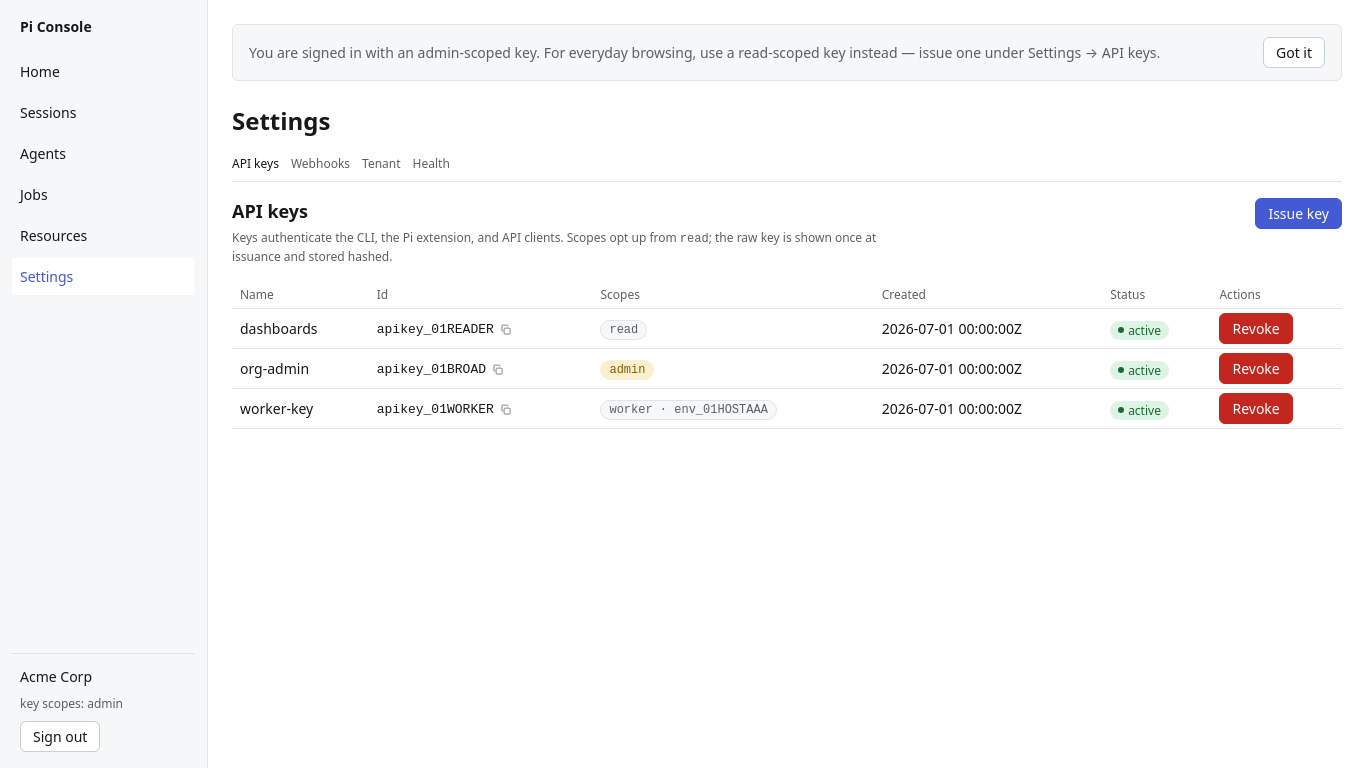
Scenario: issue flow (§9.7: opt-up scopes, show-once secret) › issues with the opted-up scopes, reveals the key exactly once, and forgets it after copy-and-confirm (DP-8 DOM-absence)
The image size is (1366, 768).
Expected: the table named "API keys" is shown, 232,282 -> 1342,429
Click the button "Issue key" at point(1299, 214), box 1255,198 -> 1342,229
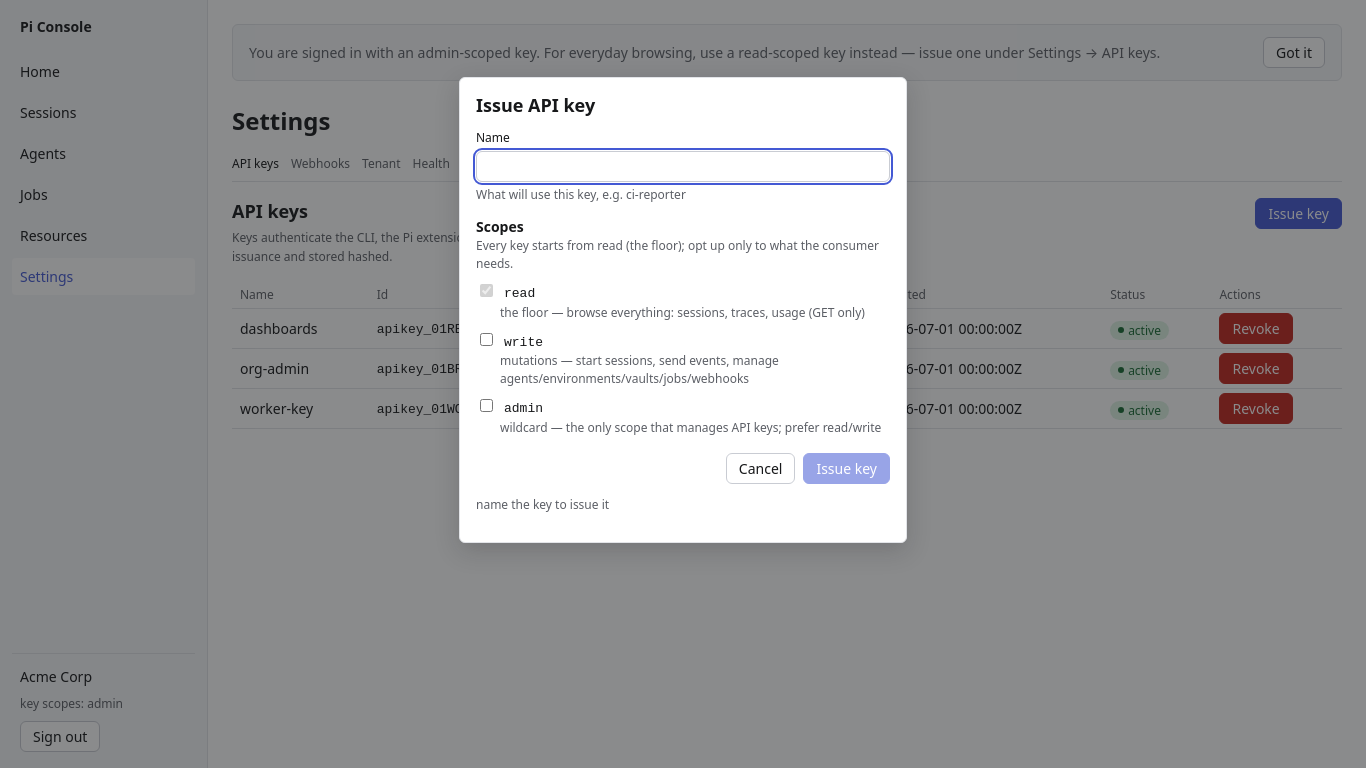
Type "ci-writer" into the field labelled "Name" at point(683, 167), box 476,151 -> 890,182
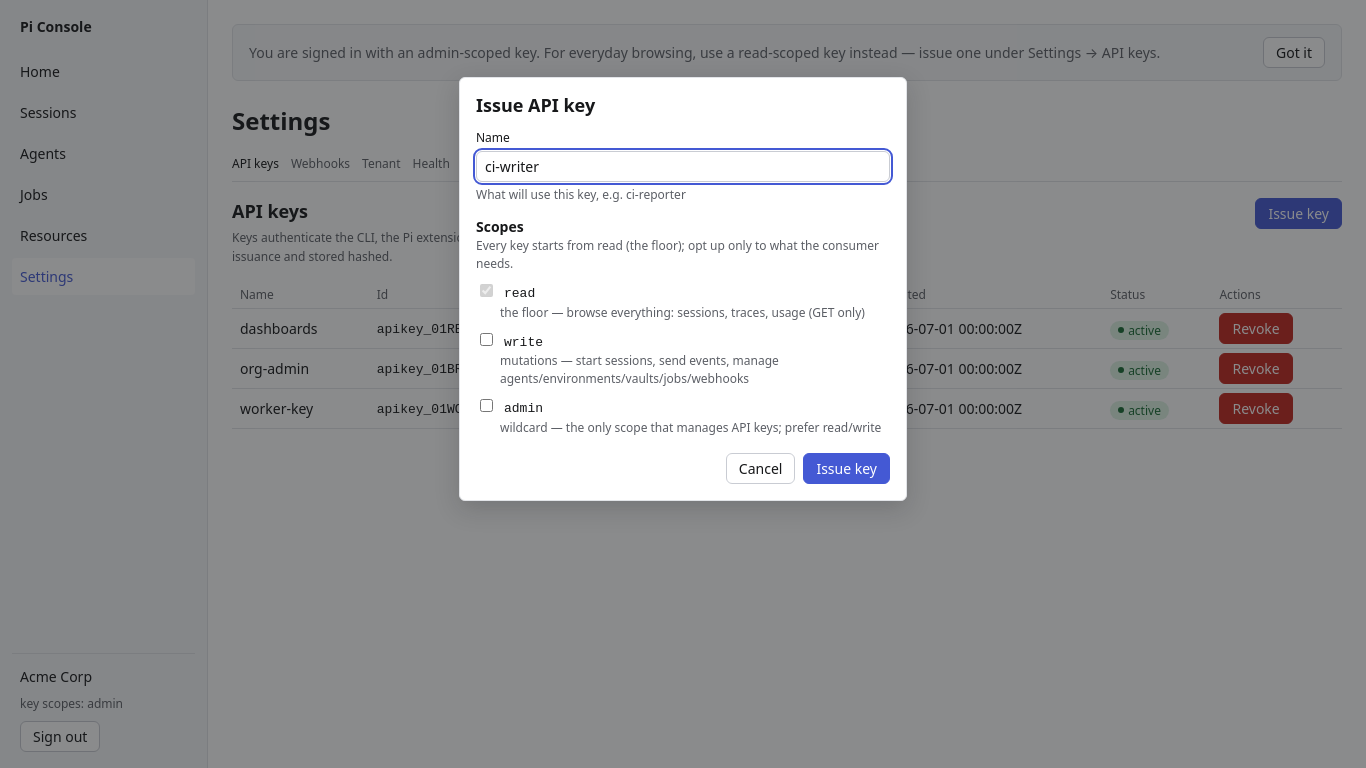
Click the checkbox labelled "write" at point(486, 339), box 480,333 -> 493,346
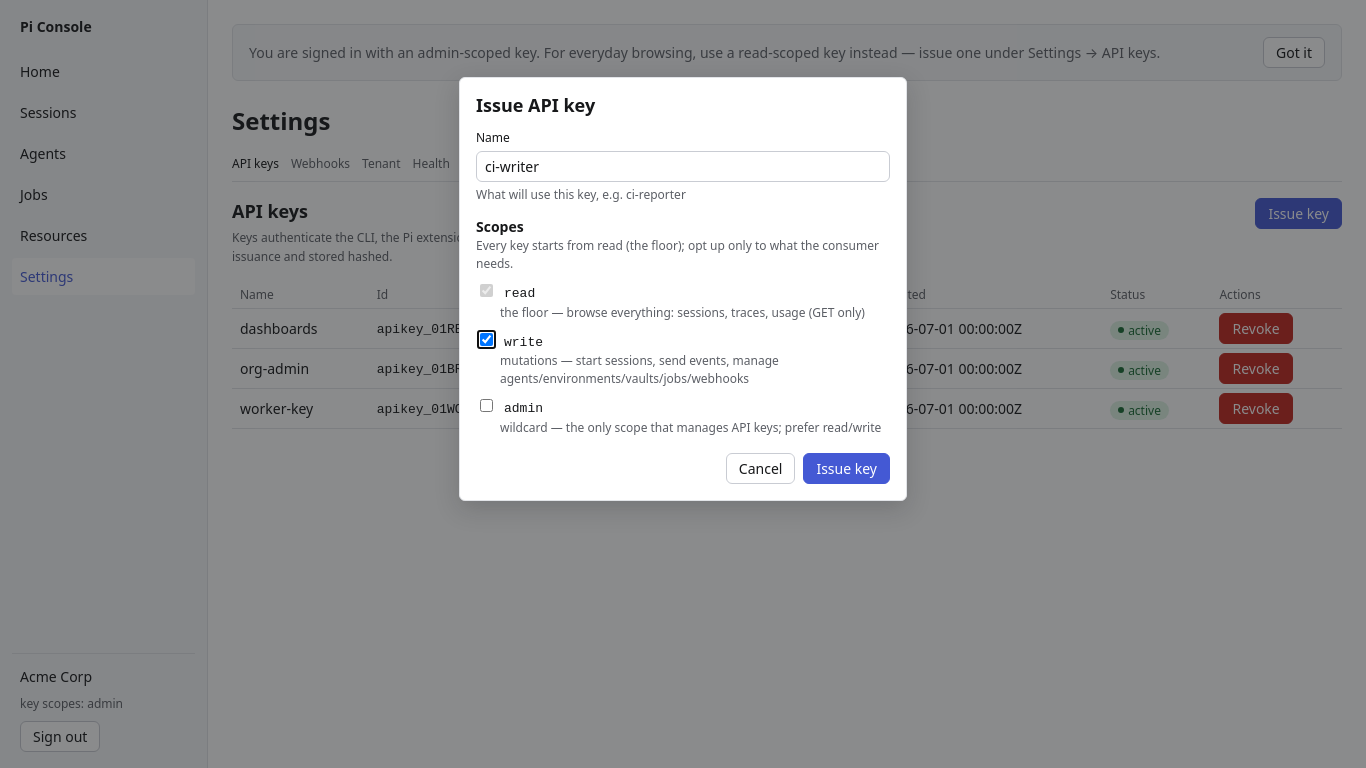
Click the button "Issue key" at point(847, 468), box 803,453 -> 890,484
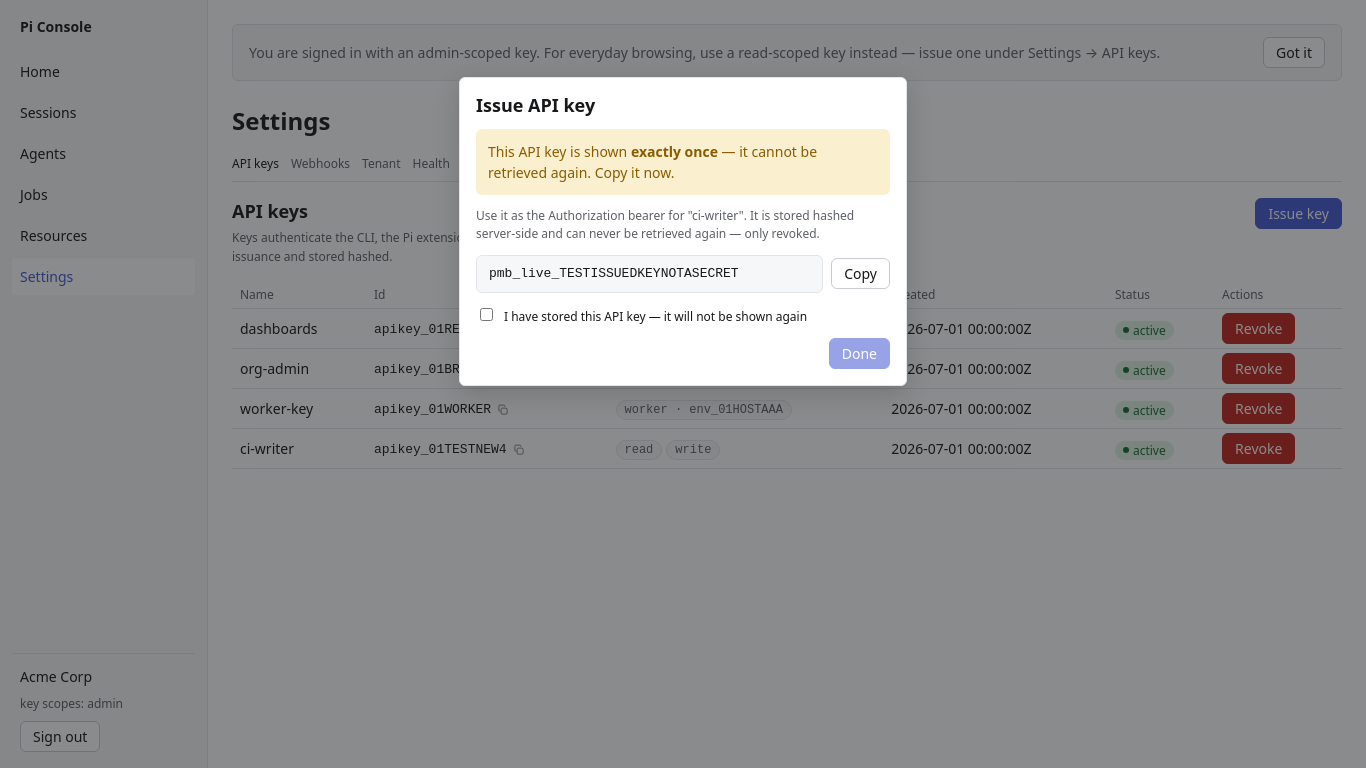
Result: the text "pmb_live_TESTISSUEDKEYNOTASECRET" is shown at 476,255 -> 823,293
Result: the button "Done" is disabled at 829,338 -> 890,369
Click the checkbox labelled "I have stored this API key — it will not be shown again" at point(486, 314), box 480,308 -> 493,321
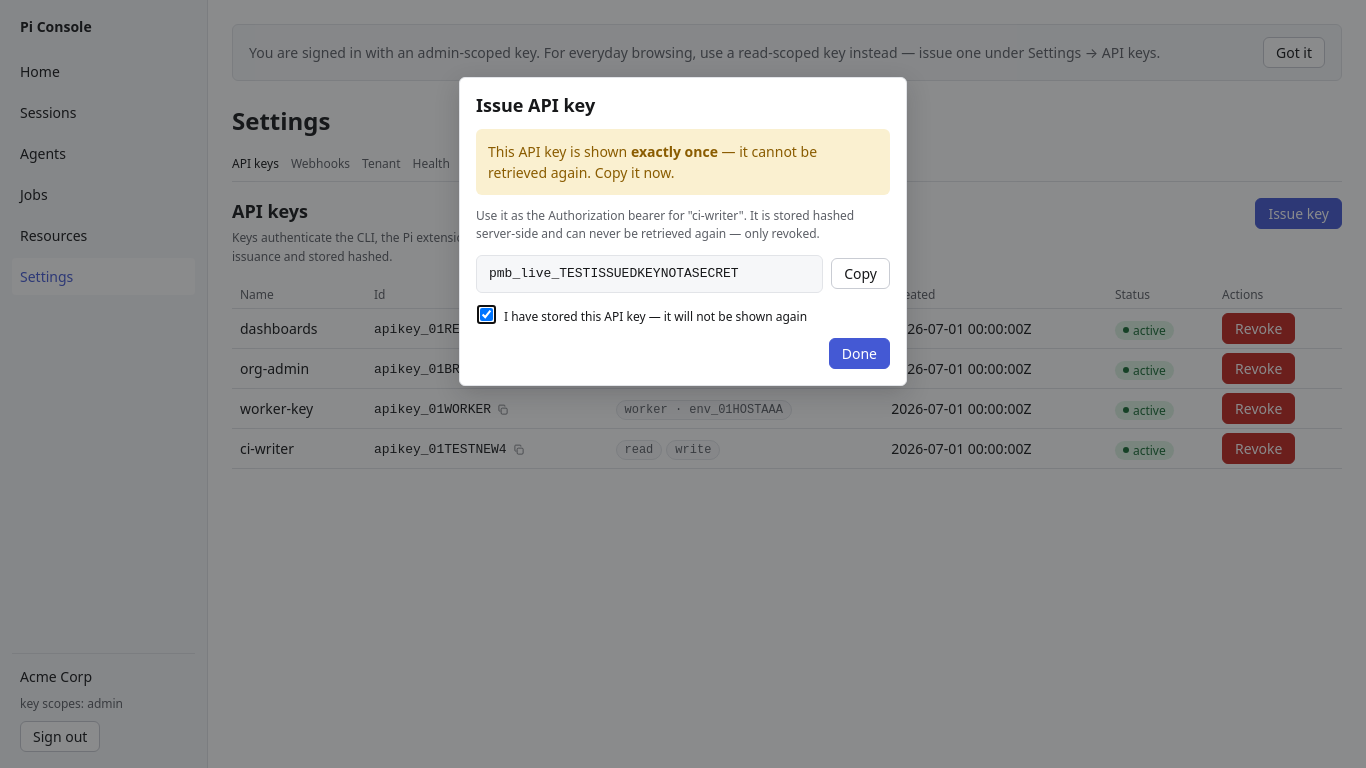
Click the button "Done" at point(859, 353), box 829,338 -> 890,369
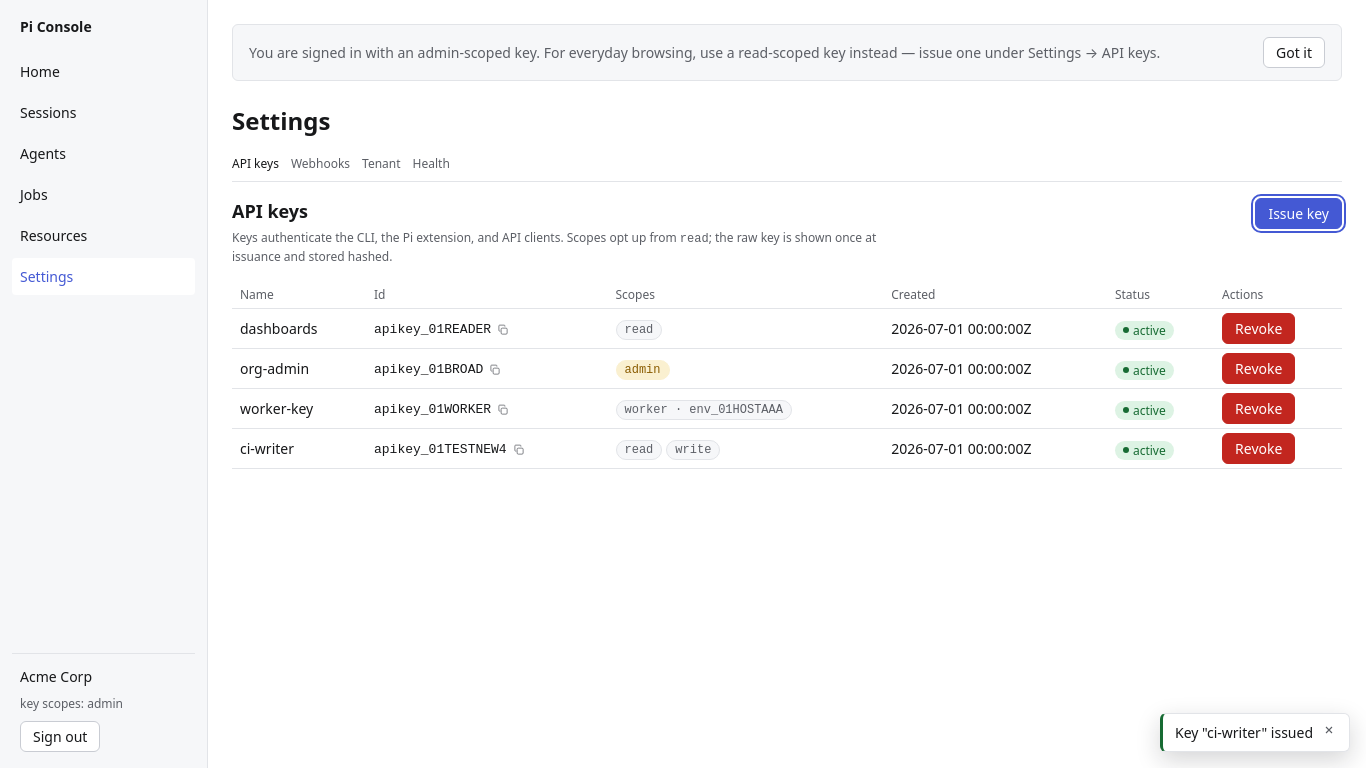
Result: the text "ci-writer" is shown at 232,429 -> 366,469
Result: the text "pmb_live_TESTISSUEDKEYNOTASECRET" is gone
